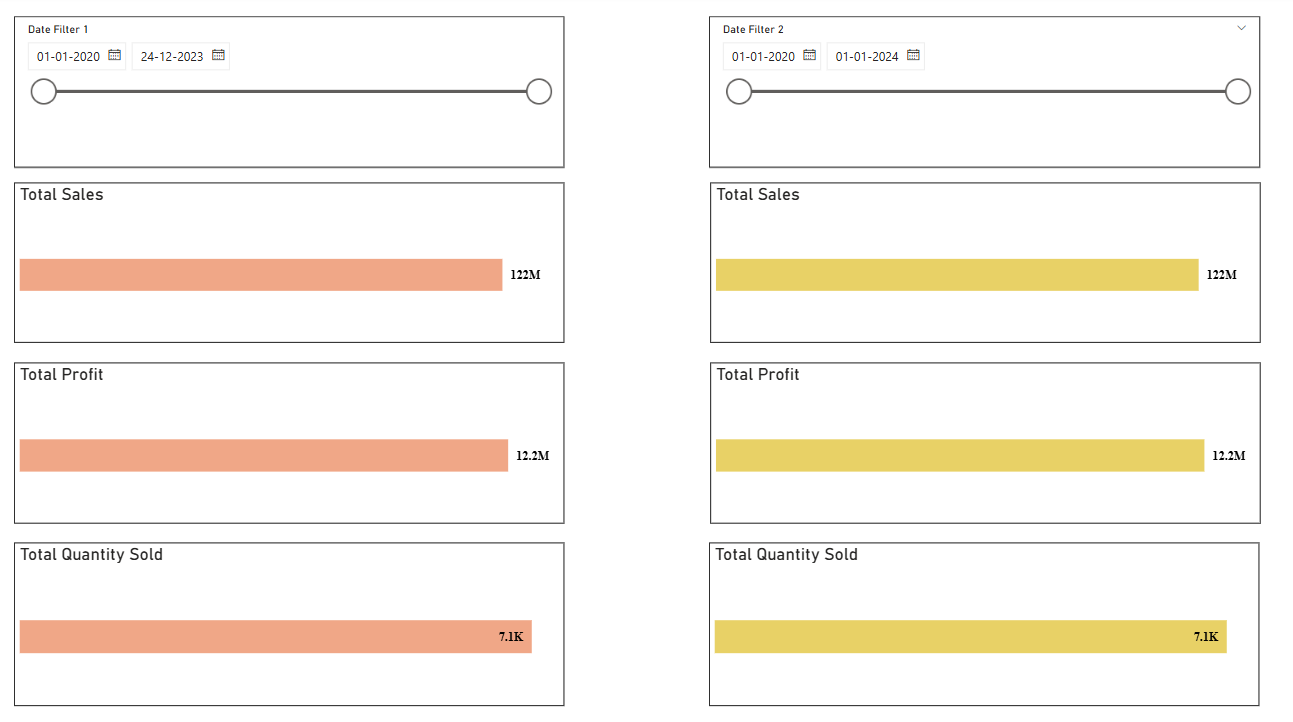

This screenshot's page, from the dashboard's own definition file:
{"tool":"powerbi","page":{"name":"Edit Interactions","canvas":[1280,720],"ordinal":3},"visuals":[{"type":"slicer","fields":{"Values":["Fact Table.Date (dd/mm/yyyy)"]},"box":[19.6,20.8,538,148],"z":0},{"type":"slicer","fields":{"Values":["Fact Table.Date (dd/mm/yyyy)"]},"box":[699.5,20.8,539.3,148],"z":1000},{"type":"barChart","title":"Total Sales","fields":{"Y":["Sum(Fact Table.Net Sales   )"]},"box":[19.6,183.4,538,156.5],"z":2000},{"type":"barChart","title":"Total Profit","fields":{"Y":["Sum(Fact Table.Profit)"]},"box":[19.6,359.5,538,157.7],"z":3000},{"type":"barChart","title":"Total Quantity Sold","fields":{"Y":["Sum(Fact Table.Units Sold)"]},"box":[19.6,535.6,538,160.2],"z":4000},{"type":"barChart","title":"Total Sales","fields":{"Y":["Sum(Fact Table.Net Sales   )"]},"box":[700.7,183.4,538,156.5],"z":4001},{"type":"barChart","title":"Total Profit","fields":{"Y":["Sum(Fact Table.Profit)"]},"box":[700.7,359.5,538,157.7],"z":4002},{"type":"barChart","title":"Total Quantity Sold","fields":{"Y":["Sum(Fact Table.Units Sold)"]},"box":[699.5,535.6,538,160.2],"z":4003}]}

Visuals, with their boxes in screenshot pixels (x1, y1, x2, y2), scaled from the page's 1280x720 canvas onto the 1293x722 screenshot:
slicer - Fact Table.Date (dd/mm/yyyy): <bbox>20, 21, 563, 169</bbox>
slicer - Fact Table.Date (dd/mm/yyyy): <bbox>707, 21, 1251, 169</bbox>
"Total Sales" barChart: <bbox>20, 184, 563, 341</bbox>
"Total Profit" barChart: <bbox>20, 360, 563, 519</bbox>
"Total Quantity Sold" barChart: <bbox>20, 537, 563, 698</bbox>
"Total Sales" barChart: <bbox>708, 184, 1251, 341</bbox>
"Total Profit" barChart: <bbox>708, 360, 1251, 519</bbox>
"Total Quantity Sold" barChart: <bbox>707, 537, 1250, 698</bbox>
